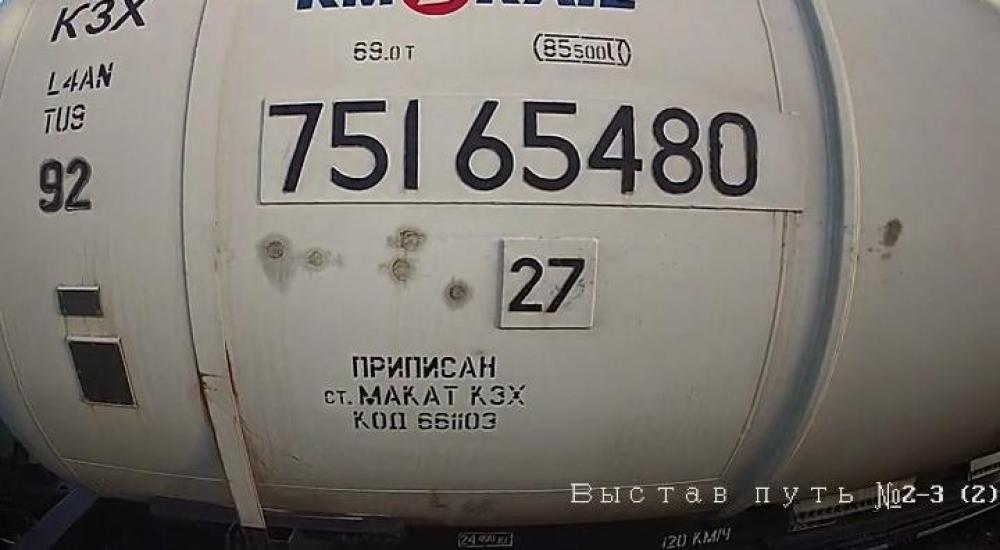Wagon-number: (261, 96, 764, 204)
